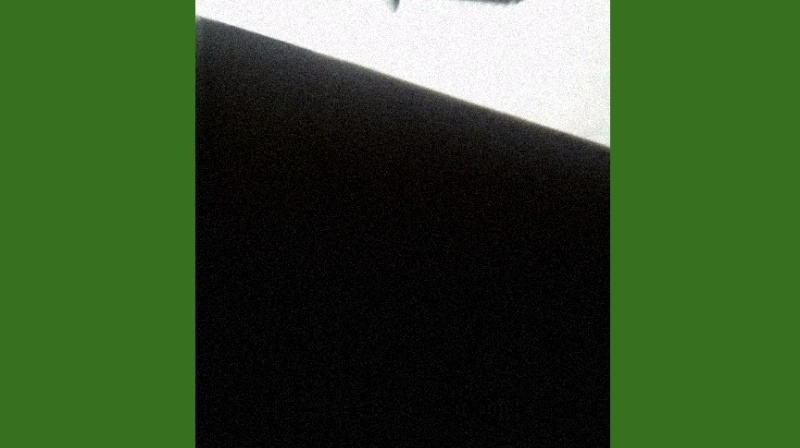S003: (377, 0, 525, 15)
